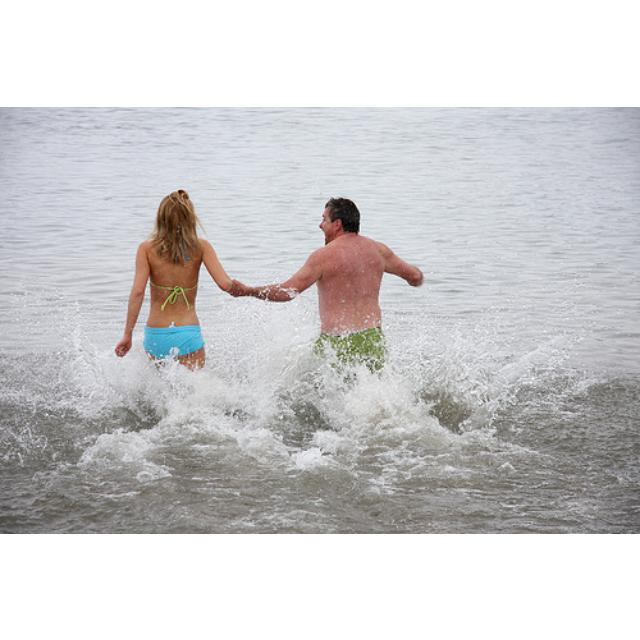human: (232, 195, 424, 374), (117, 189, 230, 378)
